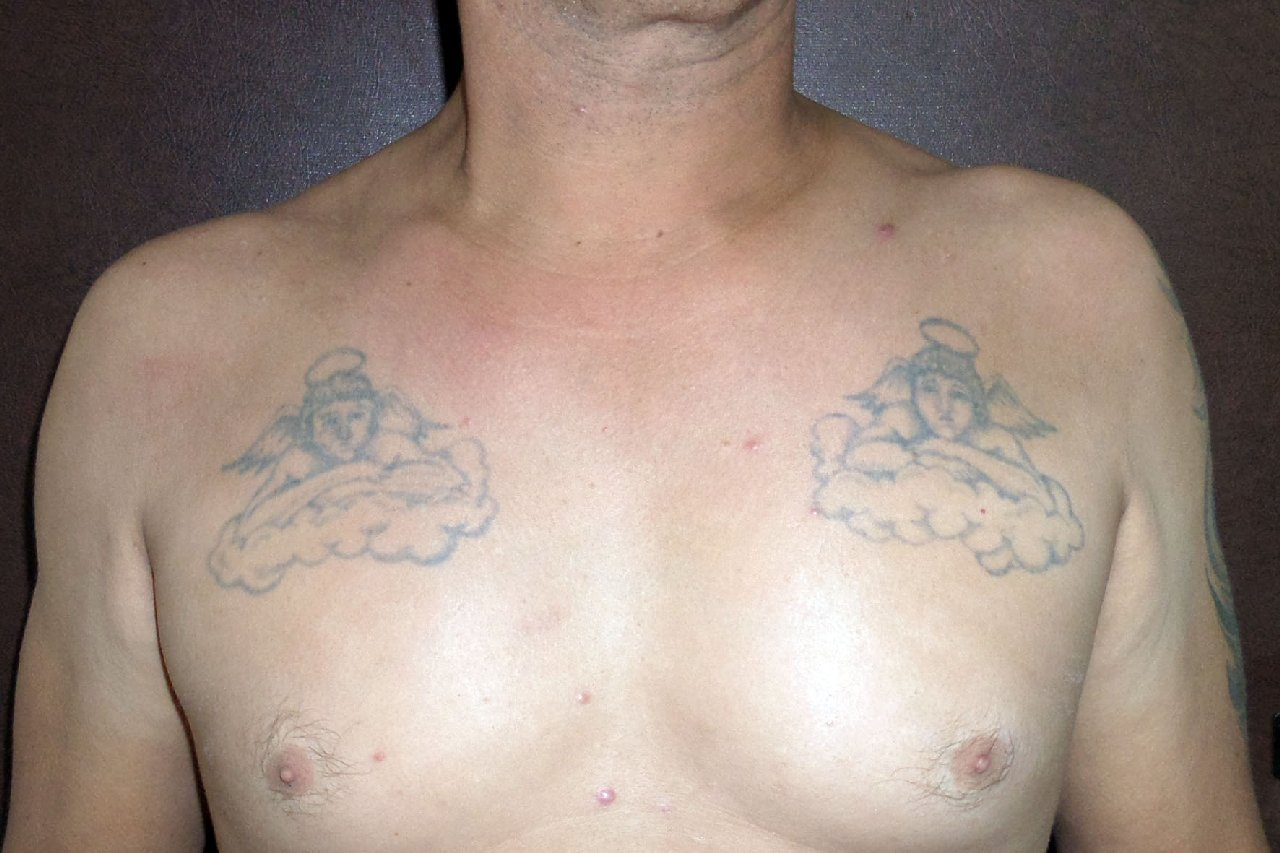tatu1_angel: (784, 285, 1095, 579), (181, 338, 514, 586)
